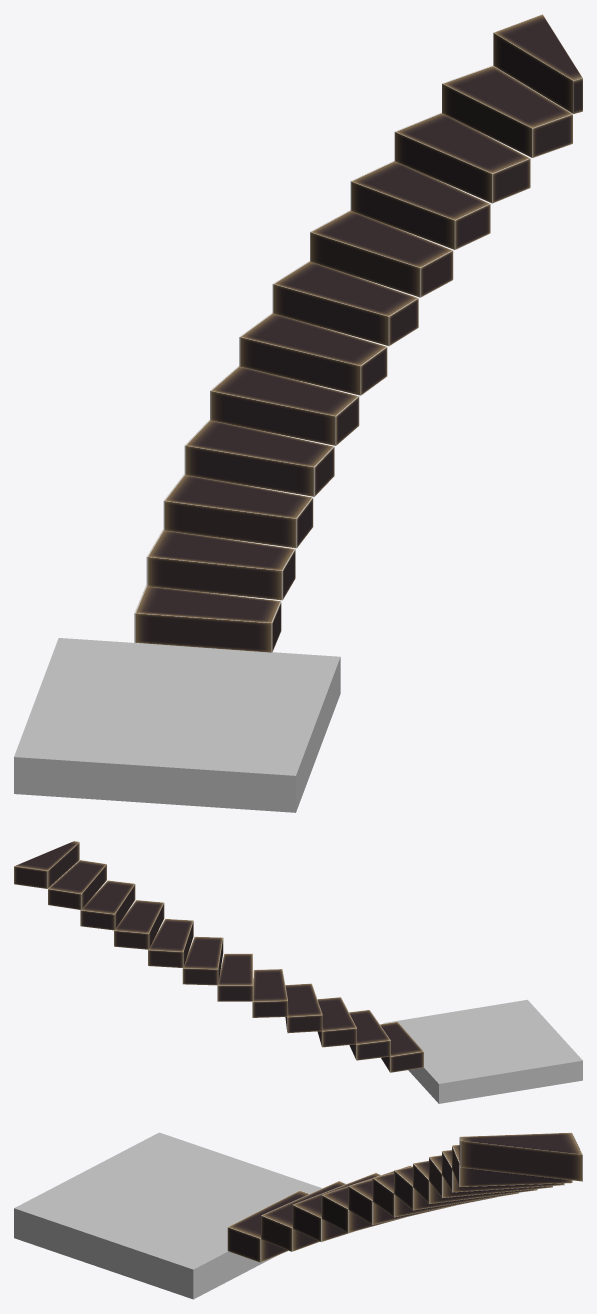
File: jieti.FBX
3 views of the same model, one above another, from view 1: azimuth 30°, elevation 25°; view 2: azimuth 150°, elevation 25°; view 3: azimuth 270°, elevation 25° (orthographic). The views are drawn at different scales.
Parts seen in each view (by area): view 1: PT_Box000, jieti02, jieti03, jieti11, jieti04, jieti05, jieti01, jieti06, jieti07, jieti08, jieti09, jieti10 (+1 smaller); view 2: PT_Box000, jieti10, jieti09, JT_Box007, jieti08, jieti07, jieti06, jieti05, jieti04, jieti03, jieti02, jieti11 (+1 smaller); view 3: PT_Box000, JT_Box007, jieti01, jieti11, jieti02, jieti10, jieti03, jieti04, jieti05, jieti06, jieti07, jieti08 (+1 smaller).
Part boxes in pixels (x1,y1,x2,y2): PT_Box000: [14, 638, 340, 812]; jieti02: [163, 474, 313, 548]; jieti03: [184, 419, 334, 496]; jieti11: [146, 529, 295, 600]; jieti04: [210, 366, 359, 445]; jieti05: [239, 313, 387, 395]; jieti01: [134, 585, 281, 652]; jieti06: [272, 261, 418, 346]; jieti07: [310, 210, 453, 297]; jieti08: [350, 160, 490, 249]; jieti09: [394, 112, 530, 203]; jieti10: [442, 65, 572, 157]; PT_Box000: [383, 999, 582, 1103]; jieti10: [48, 860, 106, 909]; jieti09: [80, 880, 135, 930]; JT_Box007: [14, 841, 79, 888]; jieti08: [114, 900, 164, 949]; jieti07: [148, 919, 193, 967]; jieti06: [182, 936, 223, 985]; jieti05: [217, 953, 253, 1001]; jieti04: [252, 969, 287, 1017]; jieti03: [285, 983, 322, 1033]; jieti02: [317, 997, 356, 1047]; jieti11: [349, 1010, 390, 1060]; PT_Box000: [14, 1132, 321, 1299]; JT_Box007: [459, 1132, 582, 1181]; jieti01: [227, 1190, 309, 1262]; jieti11: [261, 1181, 345, 1251]; jieti02: [292, 1172, 380, 1241]; jieti10: [452, 1145, 572, 1186]; jieti03: [321, 1165, 411, 1232]; jieti04: [348, 1179, 454, 1224]; jieti05: [372, 1172, 496, 1217]; jieti06: [394, 1166, 518, 1210]; jieti07: [413, 1160, 537, 1203]; jieti08: [429, 1155, 552, 1197].
Bounding box in the file's own units: 2238 × 1069 × 1725.
